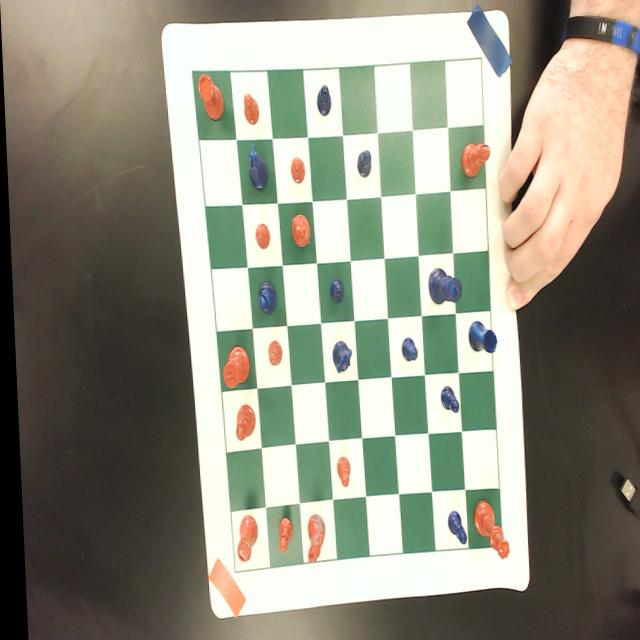B: (254, 280, 276, 316)
K: (425, 267, 460, 306)
N: (245, 142, 267, 192), (329, 342, 350, 374)
P: (442, 511, 463, 546), (314, 85, 332, 117), (436, 384, 455, 414), (354, 147, 371, 179), (397, 336, 416, 364), (326, 279, 343, 304)
R: (464, 318, 495, 354)
b: (458, 140, 492, 180), (231, 404, 252, 442)
cb: (191, 59, 497, 573)
k: (219, 345, 248, 389)
n: (300, 513, 323, 567), (288, 212, 310, 250)
p: (272, 516, 289, 556), (241, 92, 260, 126), (331, 457, 347, 488), (253, 222, 269, 250), (288, 157, 304, 183), (263, 341, 279, 366)
q: (468, 498, 505, 561)
r: (196, 73, 225, 123), (230, 514, 257, 562)
